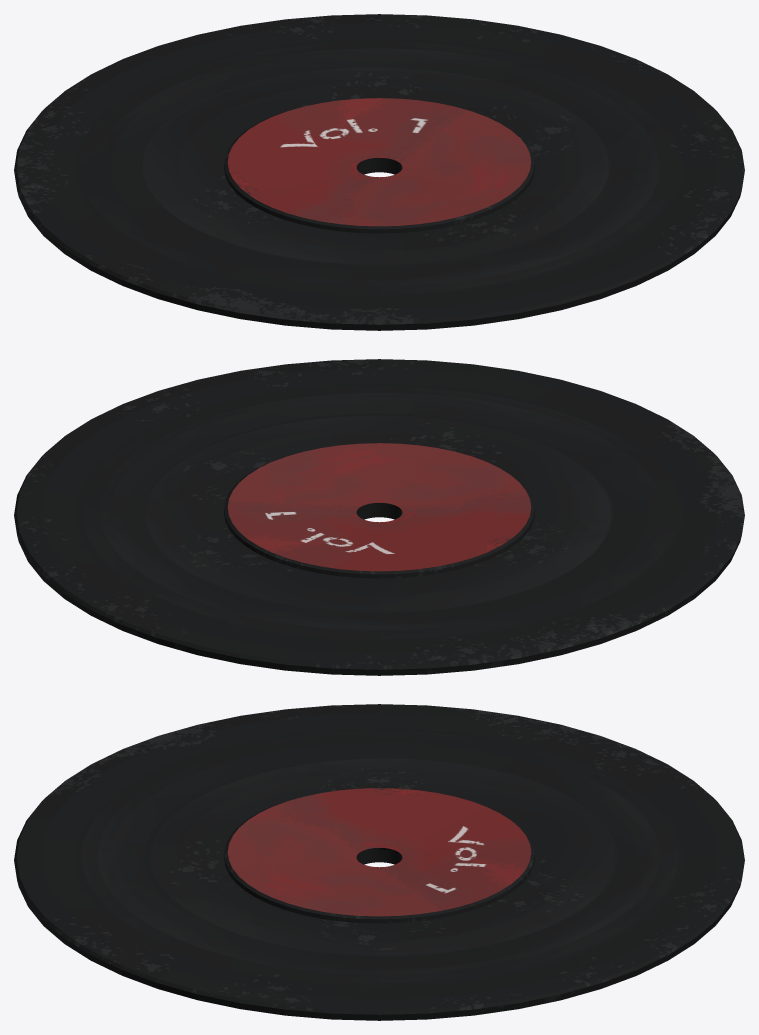
Rendered from vinyl.fbx.
The picture shows the model from 3 angles, top to bottom: view 1: azimuth 30°, elevation 25°; view 2: azimuth 150°, elevation 25°; view 3: azimuth 270°, elevation 25°; orthographic projection.
Visible parts, largest first — view 1: Torus.001; view 2: Torus.001; view 3: Torus.001.
Boxes of the visible parts, x1,y1,x2,y2 form: Torus.001: (14,14,744,330); Torus.001: (14,359,744,675); Torus.001: (14,704,744,1020).
Bounding box in the file's own units: 244 × 7.42 × 244.
